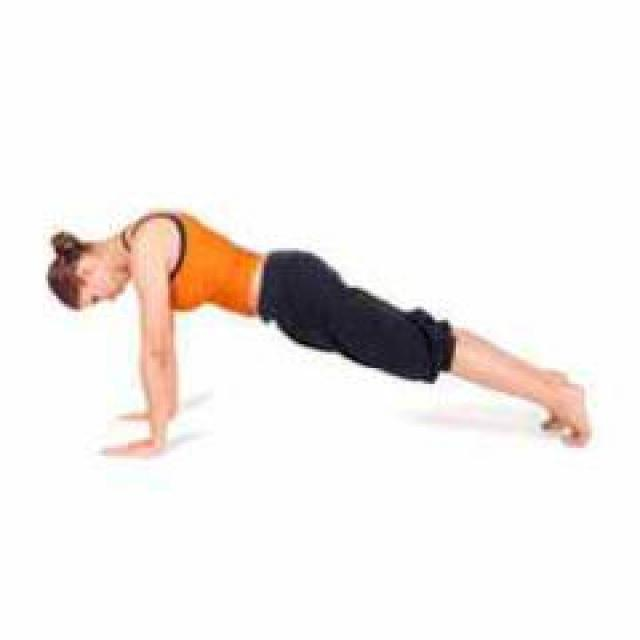yoga-pose plank: (41, 210, 590, 460)
